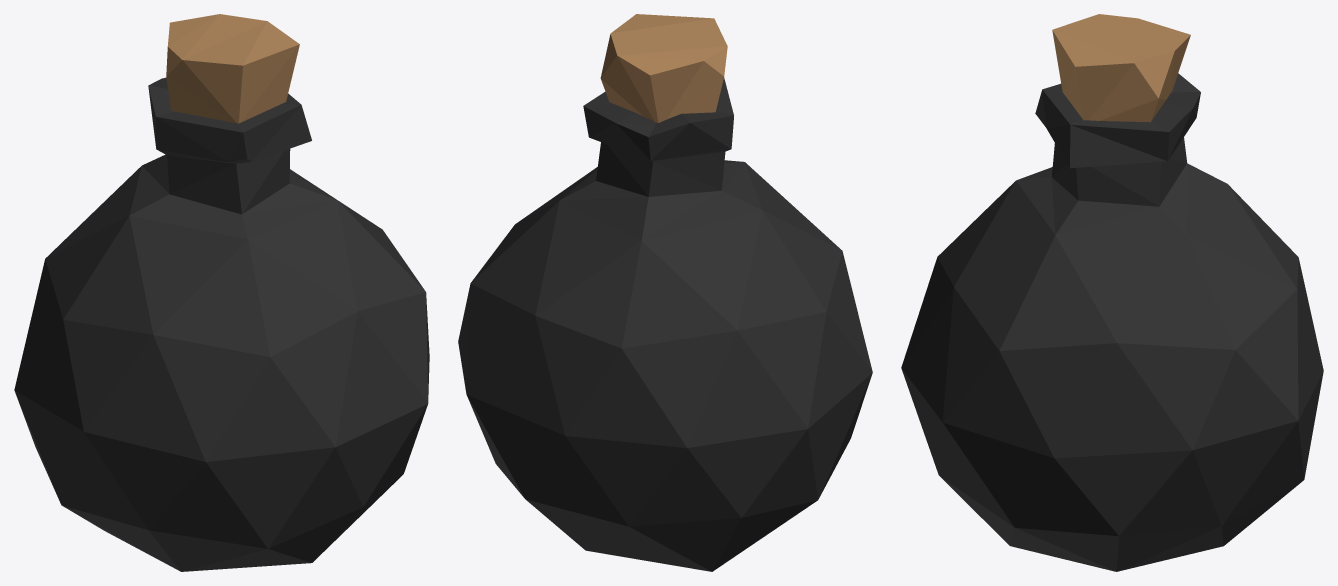
File: AWS_Potion_Black_002.fbx
3 renders of one model, left to right at view 1: azimuth 30°, elevation 25°; view 2: azimuth 150°, elevation 25°; view 3: azimuth 270°, elevation 25°, orthographic. The views are drawn at different scales.
Visible parts, largest first — view 1: AWS_Potion_Black_002; view 2: AWS_Potion_Black_002; view 3: AWS_Potion_Black_002.
Boxes of the visible parts, x1,y1,x2,y2 form: AWS_Potion_Black_002: (14,14,429,571); AWS_Potion_Black_002: (458,14,872,571); AWS_Potion_Black_002: (901,14,1323,571).
Bounding box in the file's own units: 7.62 × 10.84 × 7.87.
